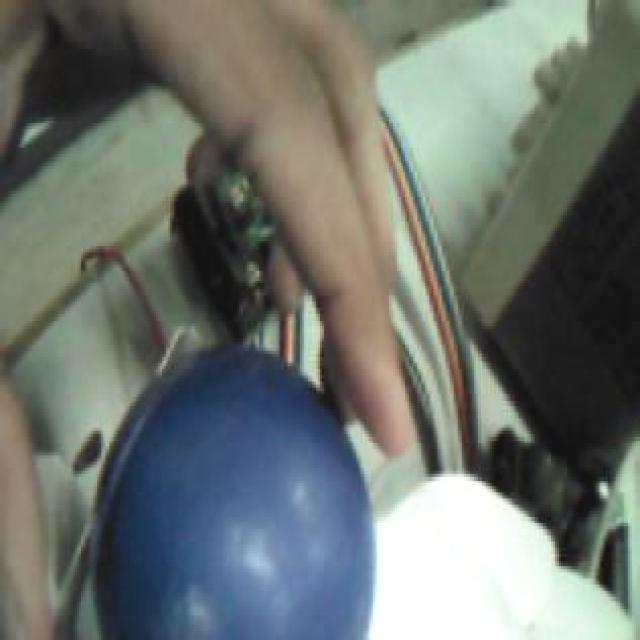BallPurple: (91, 344, 374, 640)
